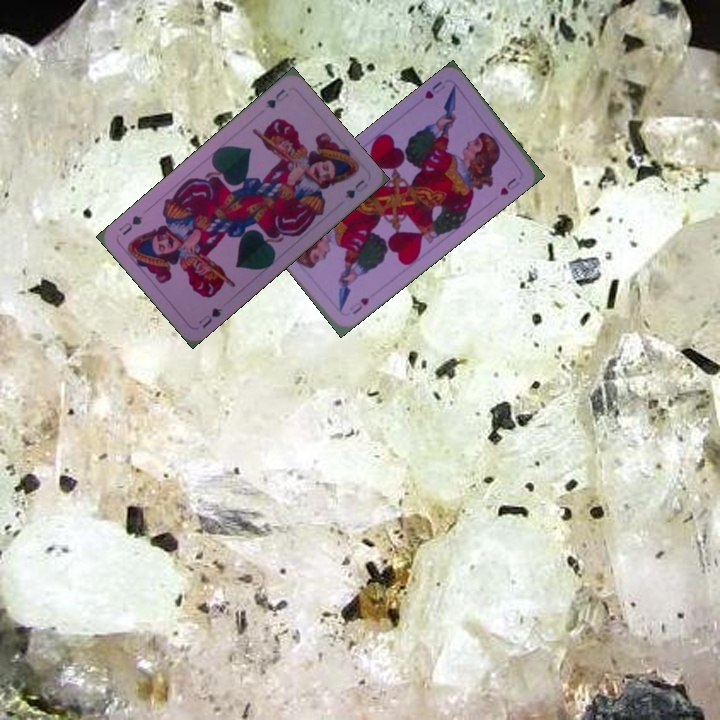GU: (194, 303, 225, 331), (262, 85, 291, 111)
HU: (421, 77, 448, 102), (348, 293, 372, 317)
